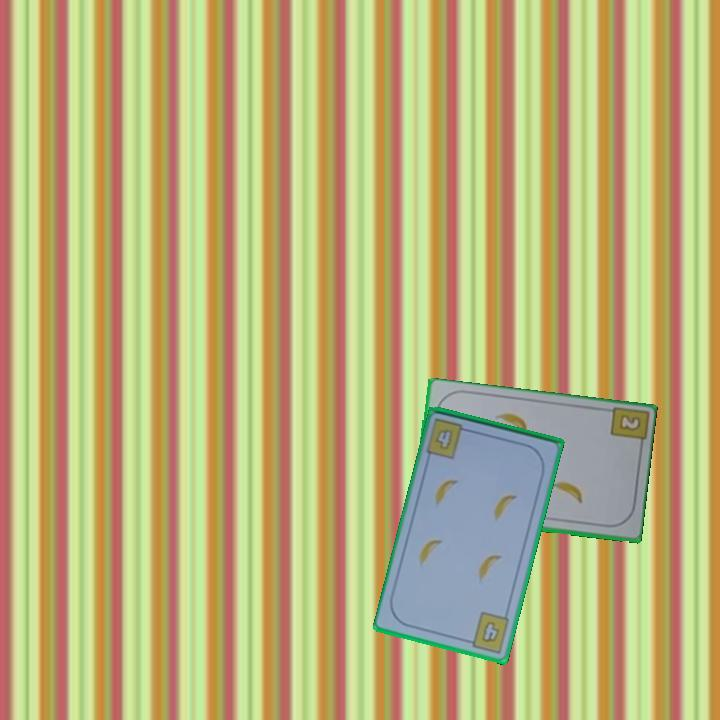2b: (618, 413, 641, 432)
4b: (462, 608, 513, 656), (432, 426, 457, 453)
